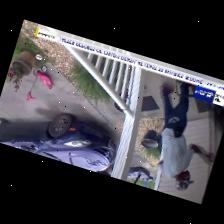person: (158, 85, 214, 190)
